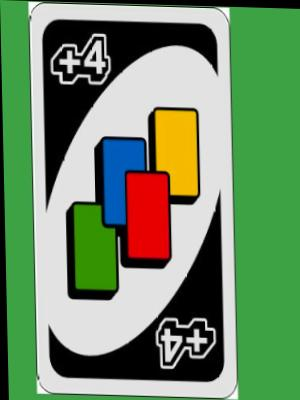wild-4: (30, 6, 236, 396)
